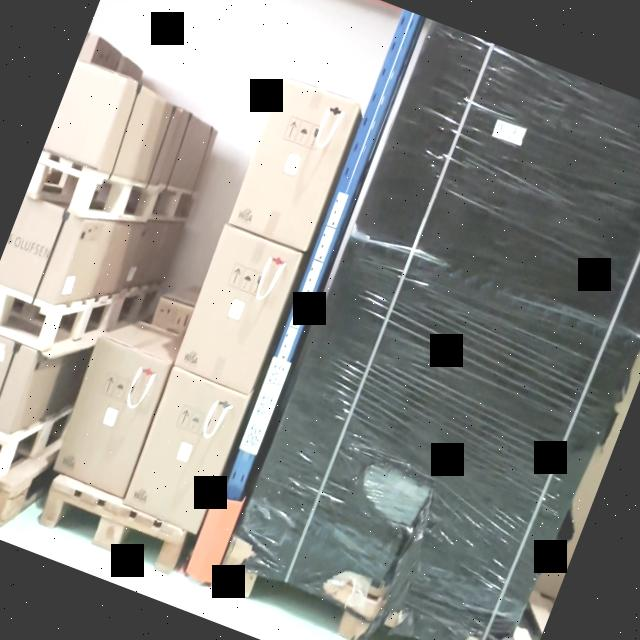box: (238, 22, 640, 640), (229, 77, 359, 251), (175, 226, 302, 394), (123, 368, 250, 534), (53, 336, 171, 499), (0, 196, 84, 305), (44, 61, 128, 169), (0, 338, 37, 434), (78, 33, 98, 63)
